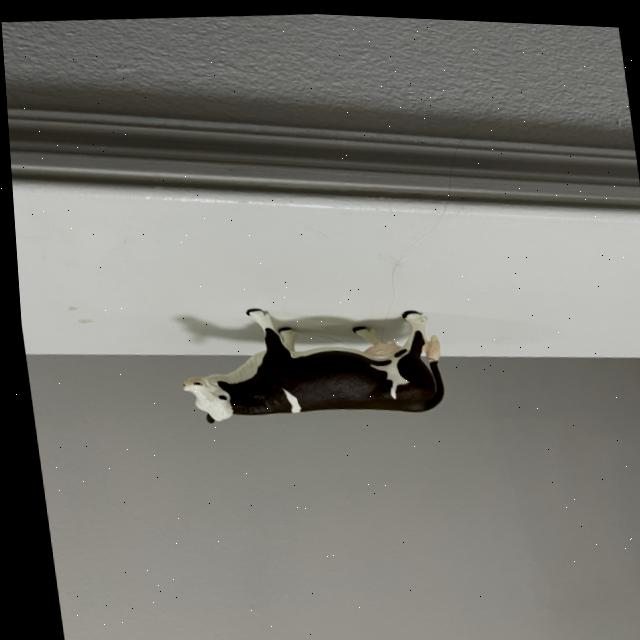cow: (173, 295, 439, 422)
